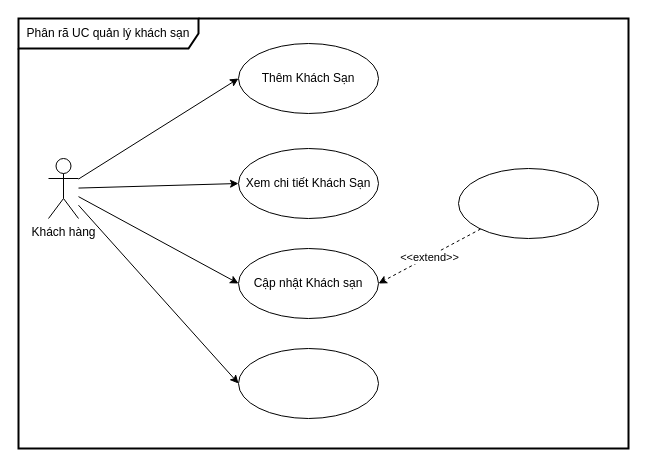
The diagram is 646 pixels wide and 466 high, and some of its shapes have lost their labels. Each missing label, with the centre of its shape:
Quản lý phòng khách sạn: point (528, 203)
Xóa Khách sạn: point (308, 383)
